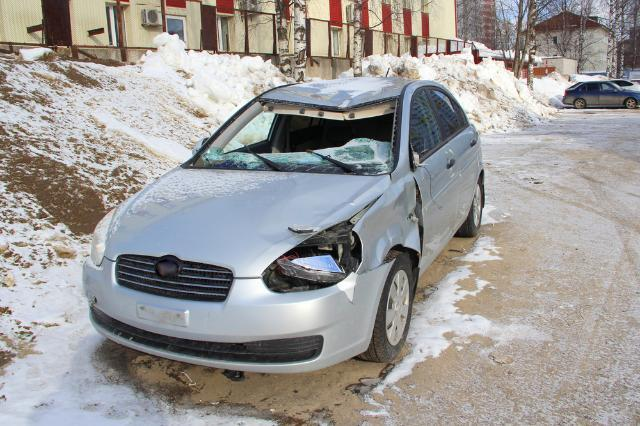dent: (263, 184, 377, 246), (355, 181, 421, 270), (283, 77, 406, 107)
glass shatter: (191, 100, 397, 175)
lamp broken: (262, 219, 361, 293)
